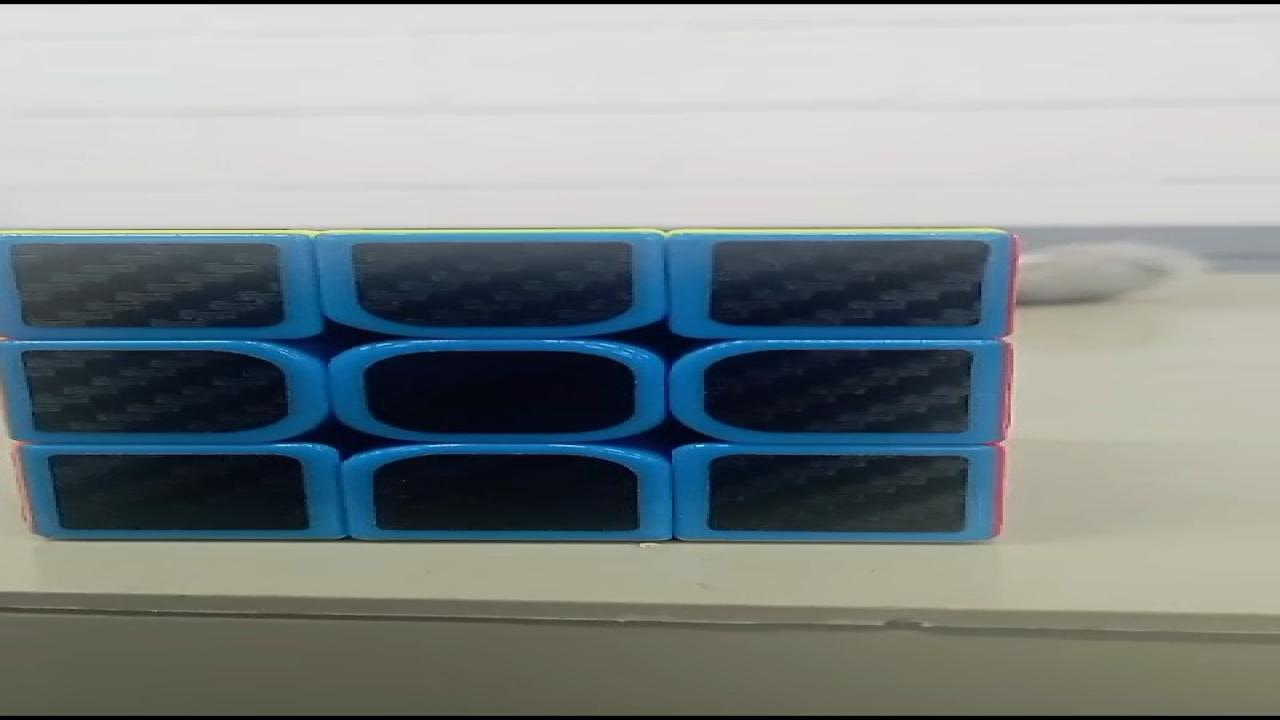Cube: (3, 226, 1024, 543)
